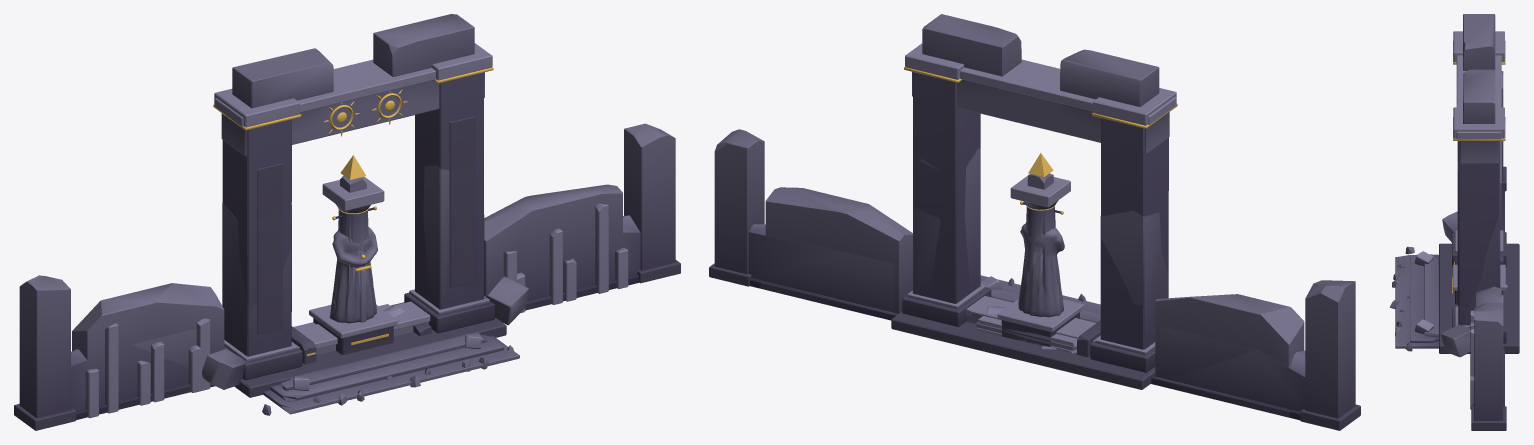
Rendered from temple_backdrop.glb.
3 renders of one model, left to right at view 1: azimuth 30°, elevation 25°; view 2: azimuth 150°, elevation 25°; view 3: azimuth 270°, elevation 25°, orthographic. The views are drawn at different scales.
Parts seen in each view (by area): view 1: GateB__stone, GateA__stone, GateA__dark, GateA__light, GateB__light, GateB__dark, Statue__stone, ColTall__light, Statue__light, Architrave__light, Statue__dark, Stairs__dark (+1 smaller); view 2: GateB__stone, GateA__stone, GateA__dark, GateA__light, Statue__stone, GateB__light, ColTall__light, GateB__dark, Statue__light, Architrave__light, Stairs__light, Statue__dark (+1 smaller); view 3: GateB__stone, GateA__stone, GateA__dark, GateB__light, GateA__light, GateB__dark, Statue__light, GateB__gold.
Part boxes in pixels (bbox=[...]): GateB__stone: bbox=[19, 14, 622, 418]; GateA__stone: bbox=[72, 48, 675, 412]; GateA__dark: bbox=[99, 163, 680, 414]; GateA__light: bbox=[105, 61, 628, 413]; GateB__light: bbox=[85, 43, 608, 418]; GateB__dark: bbox=[14, 116, 611, 430]; Statue__stone: bbox=[329, 227, 377, 323]; ColTall__light: bbox=[322, 176, 384, 278]; Statue__light: bbox=[309, 269, 397, 338]; Architrave__light: bbox=[291, 301, 430, 349]; Statue__dark: bbox=[313, 318, 393, 354]; Stairs__dark: bbox=[291, 322, 431, 364]; GateB__stone: bbox=[765, 14, 1355, 418]; GateA__stone: bbox=[714, 49, 1304, 380]; GateA__dark: bbox=[709, 263, 1289, 417]; GateA__light: bbox=[907, 63, 1176, 355]; Statue__stone: bbox=[1018, 223, 1064, 317]; GateB__light: bbox=[905, 43, 1059, 101]; ColTall__light: bbox=[1010, 174, 1070, 281]; GateB__dark: bbox=[760, 282, 1360, 430]; Statue__light: bbox=[997, 299, 1083, 331]; Architrave__light: bbox=[966, 296, 1100, 341]; Stairs__light: bbox=[976, 316, 1077, 353]; Statue__dark: bbox=[1001, 312, 1079, 346]; GateB__stone: bbox=[1389, 69, 1503, 351]; GateA__stone: bbox=[1393, 14, 1503, 420]; GateA__dark: bbox=[1439, 141, 1519, 430]; GateB__light: bbox=[1414, 73, 1504, 376]; GateA__light: bbox=[1414, 31, 1504, 409]; GateB__dark: bbox=[1457, 151, 1506, 404]; Statue__light: bbox=[1452, 264, 1505, 290]; GateB__gold: bbox=[1453, 117, 1505, 140].
Bounding box in the file's own units: 37.59 × 16.95 × 8.07.
